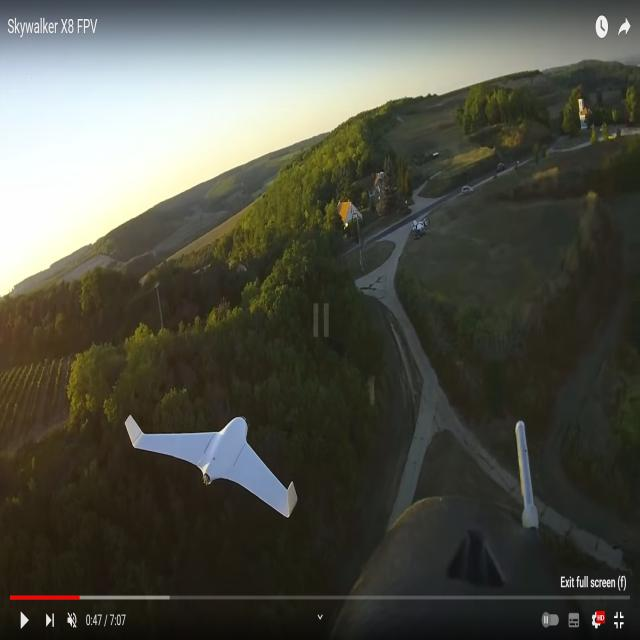iha: (128, 442, 297, 483)
